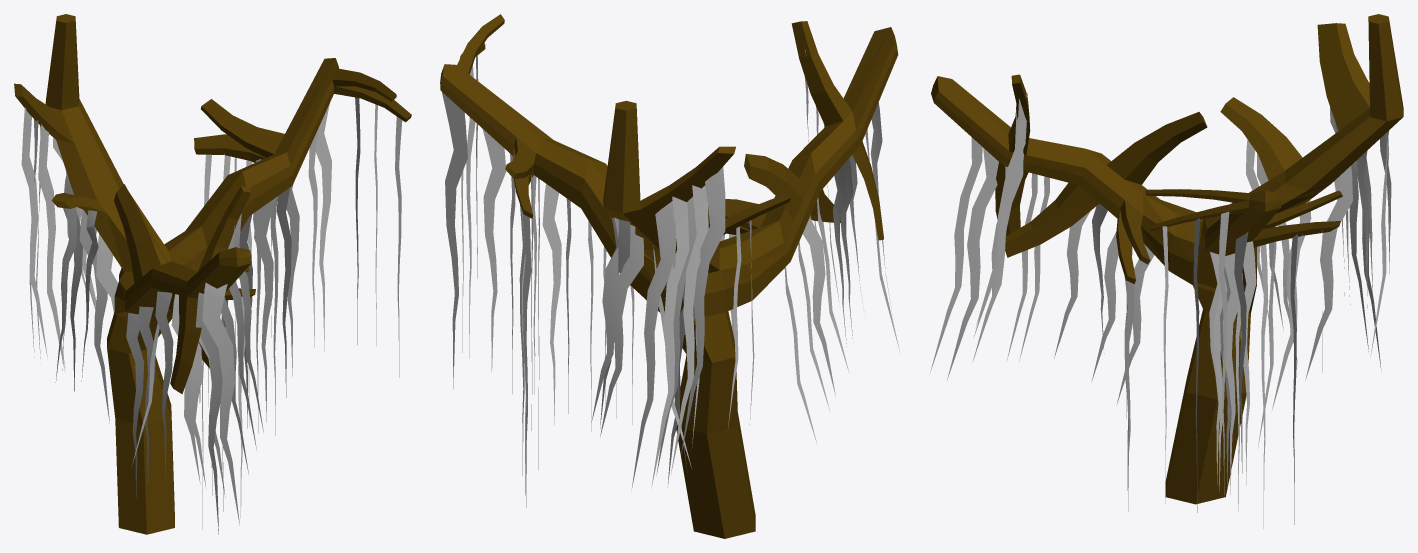
Rendered from willow_tree.fbx.
The picture shows the model from 3 angles, left to right: view 1: azimuth 30°, elevation 25°; view 2: azimuth 150°, elevation 25°; view 3: azimuth 270°, elevation 25°; orthographic projection. The views are drawn at different scales.
Parts seen in each view (by area): view 1: Tree_base, Leaves; view 2: Tree_base, Leaves; view 3: Tree_base, Leaves.
Boxes of the visible parts, x1=… form: Tree_base: x1=14, y1=14, x2=411, y2=534; Leaves: x1=21, y1=97, x2=402, y2=534; Tree_base: x1=440, y1=14, x2=898, y2=538; Leaves: x1=442, y1=49, x2=900, y2=507; Tree_base: x1=931, y1=14, x2=1403, y2=504; Leaves: x1=930, y1=93, x2=1391, y2=528.
Bounding box in the file's own units: 572 × 750 × 681.
